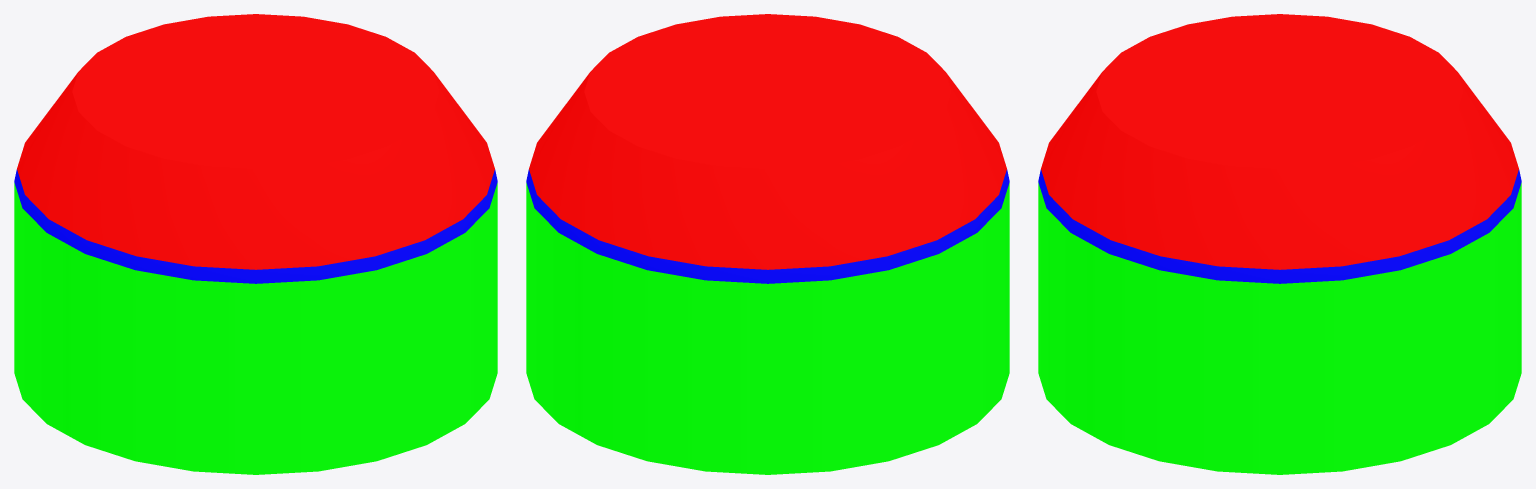
File: DroneWall_TowerBase_001.FBX
3 renders of one model, left to right at view 1: azimuth 30°, elevation 25°; view 2: azimuth 150°, elevation 25°; view 3: azimuth 270°, elevation 25°, orthographic.
Parts seen in each view (by area): view 1: TowerBase; view 2: TowerBase; view 3: TowerBase.
Part boxes in pixels (<box>): TowerBase: <box>14,14,497,474</box>; TowerBase: <box>526,14,1009,474</box>; TowerBase: <box>1038,14,1521,474</box>.
Size of the model in its own units: 600 by 600 by 385.
